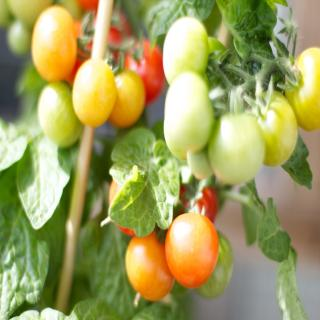tomato: (162, 69, 216, 160), (163, 206, 220, 289), (208, 110, 267, 187), (247, 89, 300, 169), (125, 225, 177, 302), (32, 5, 77, 84), (125, 35, 172, 105), (162, 15, 208, 86), (72, 56, 117, 128), (36, 82, 83, 150), (284, 46, 320, 132), (110, 68, 145, 129), (93, 10, 131, 61), (177, 180, 220, 223), (107, 177, 138, 236), (70, 19, 87, 83), (76, 0, 100, 12)
